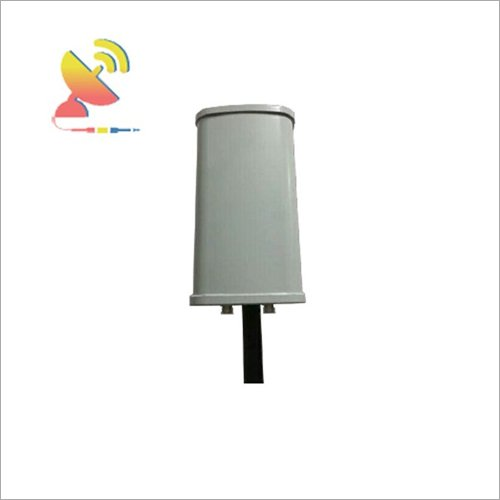sa: (180, 85, 315, 364)
